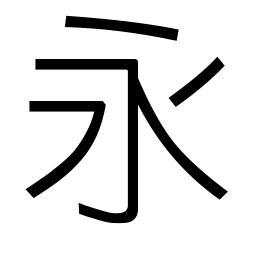D: (63, 12, 180, 41)
HSZ: (114, 55, 142, 82)
Hs: (32, 55, 63, 73)
Ne: (199, 171, 229, 203)
PNc: (143, 92, 186, 129)
PZe: (25, 172, 53, 200)
Ps: (206, 55, 227, 77)
SG: (76, 197, 142, 225)
Sm: (125, 132, 140, 177)
TPZ: (84, 95, 107, 128)
Ts: (27, 98, 53, 114)
